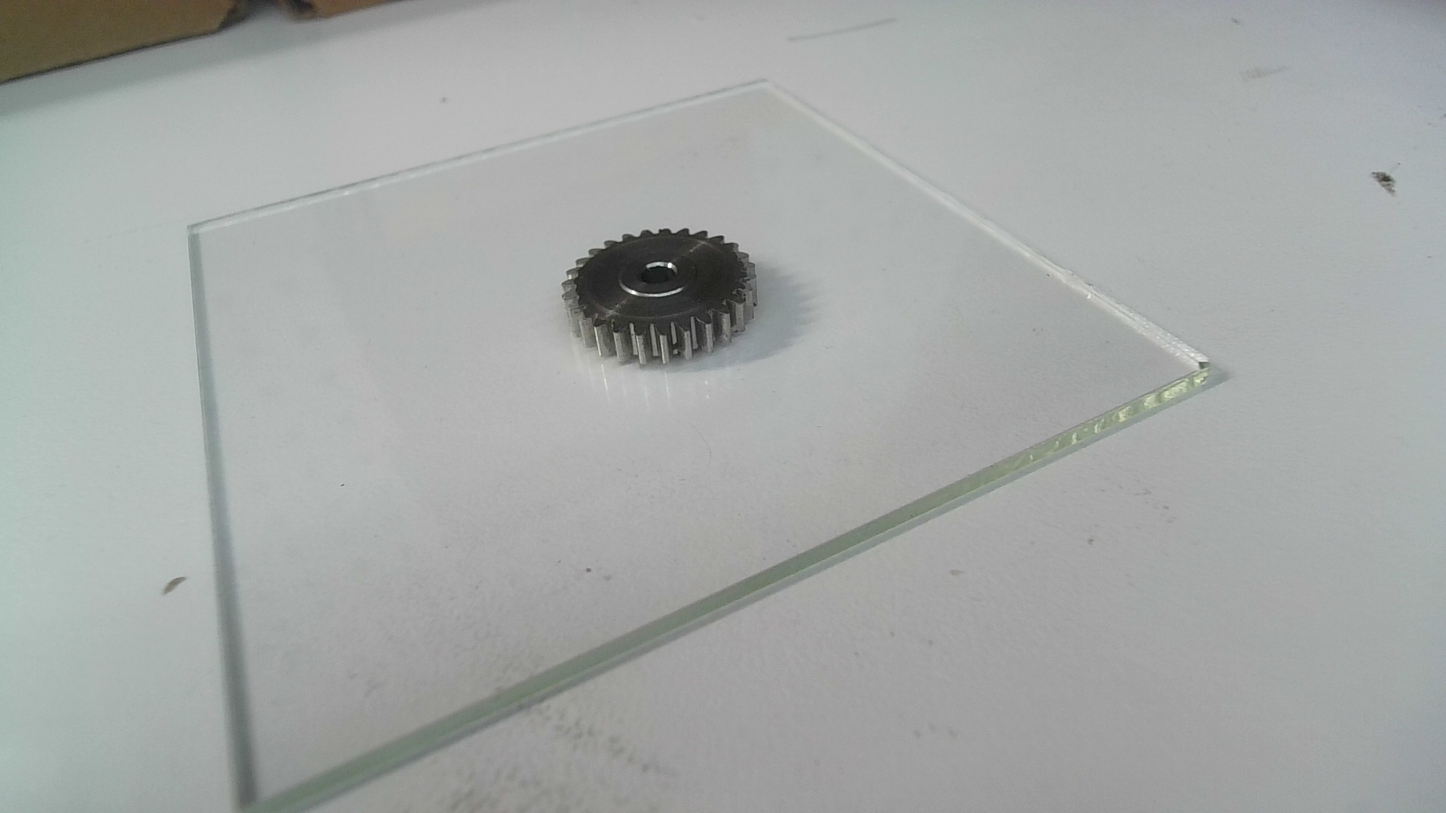gear: (560, 221, 763, 369)
